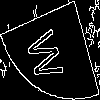W: (24, 24, 73, 84)
